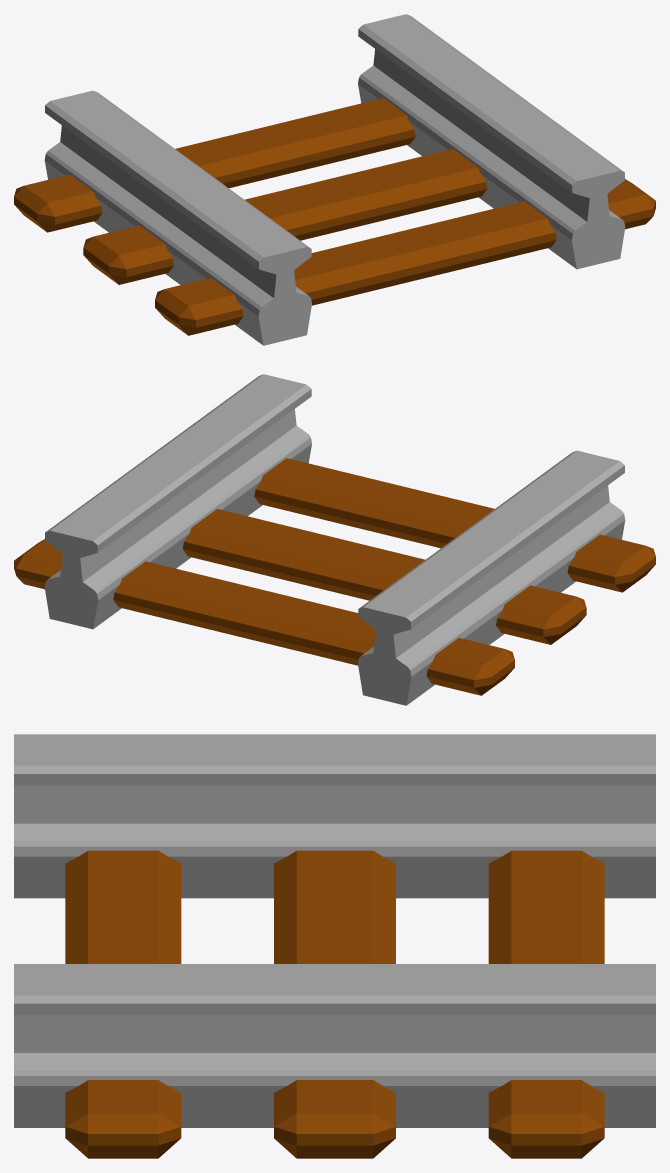
File: Ray3.fbx
The picture shows the model from 3 angles, top to bottom: view 1: azimuth 30°, elevation 25°; view 2: azimuth 150°, elevation 25°; view 3: azimuth 270°, elevation 25°; orthographic projection. The views are drawn at different scales.
Visible parts, largest first — view 1: Railroad10; view 2: Railroad10; view 3: Railroad10.
Boxes of the visible parts, x1,y1,x2,y2 form: Railroad10: (14,14,655,345); Railroad10: (14,374,655,705); Railroad10: (14,734,655,1158).
Bounding box in the file's own units: 1.03 × 0.1816 × 0.7983.
